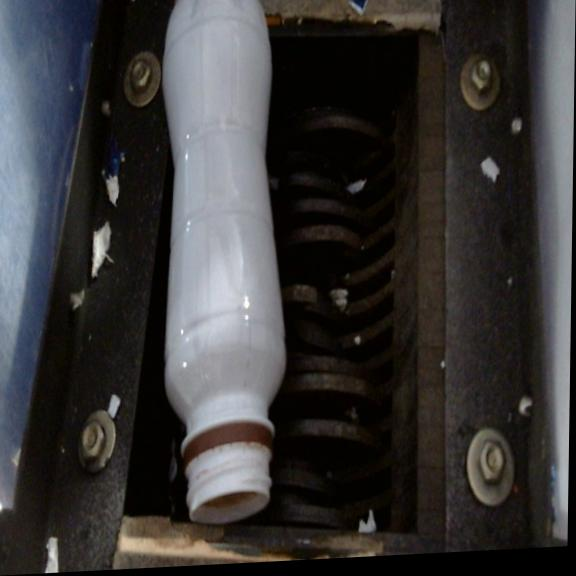Plastik: (147, 0, 306, 530)
